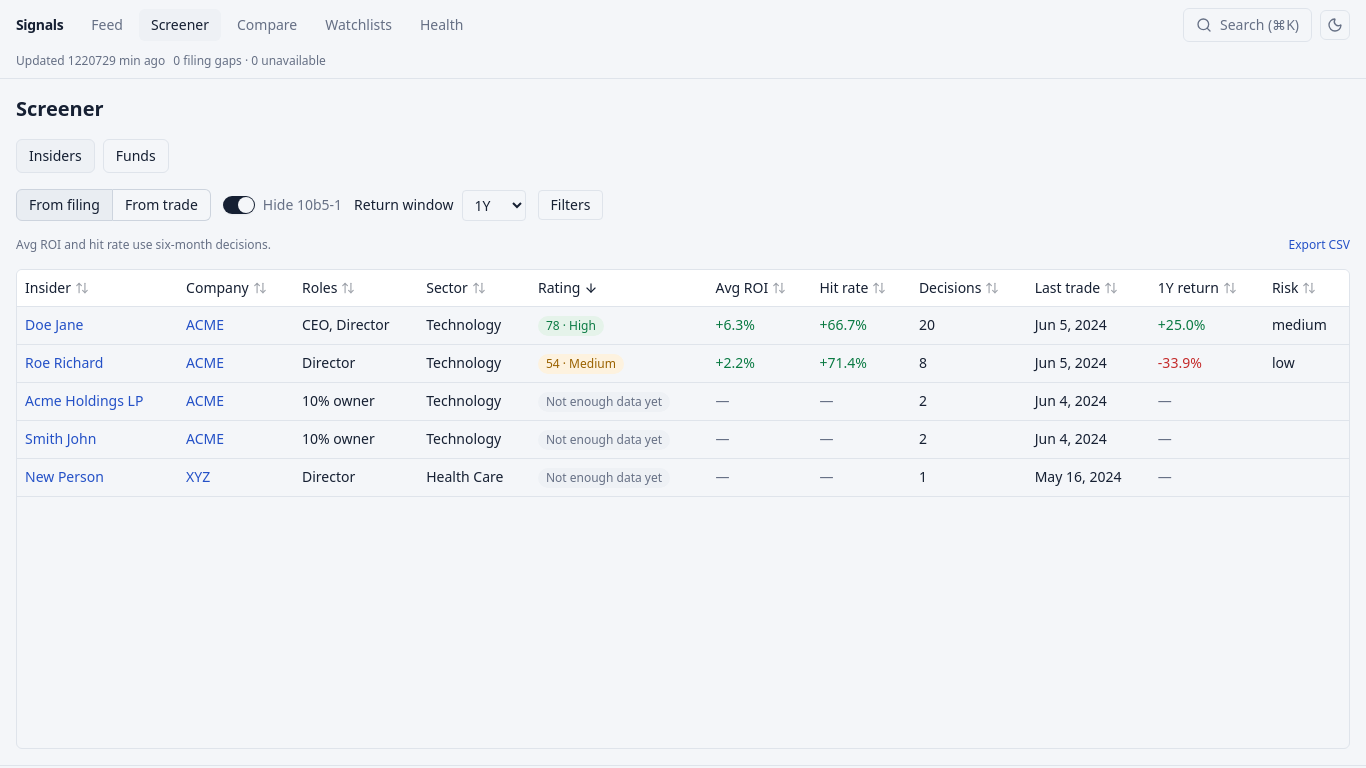
Test: debounced search shows groups and preserves server-ranked matches
The image size is (1366, 768).
Click the button "Search (⌘K)". click: (1248, 25)
box: [1183,8,1312,42]
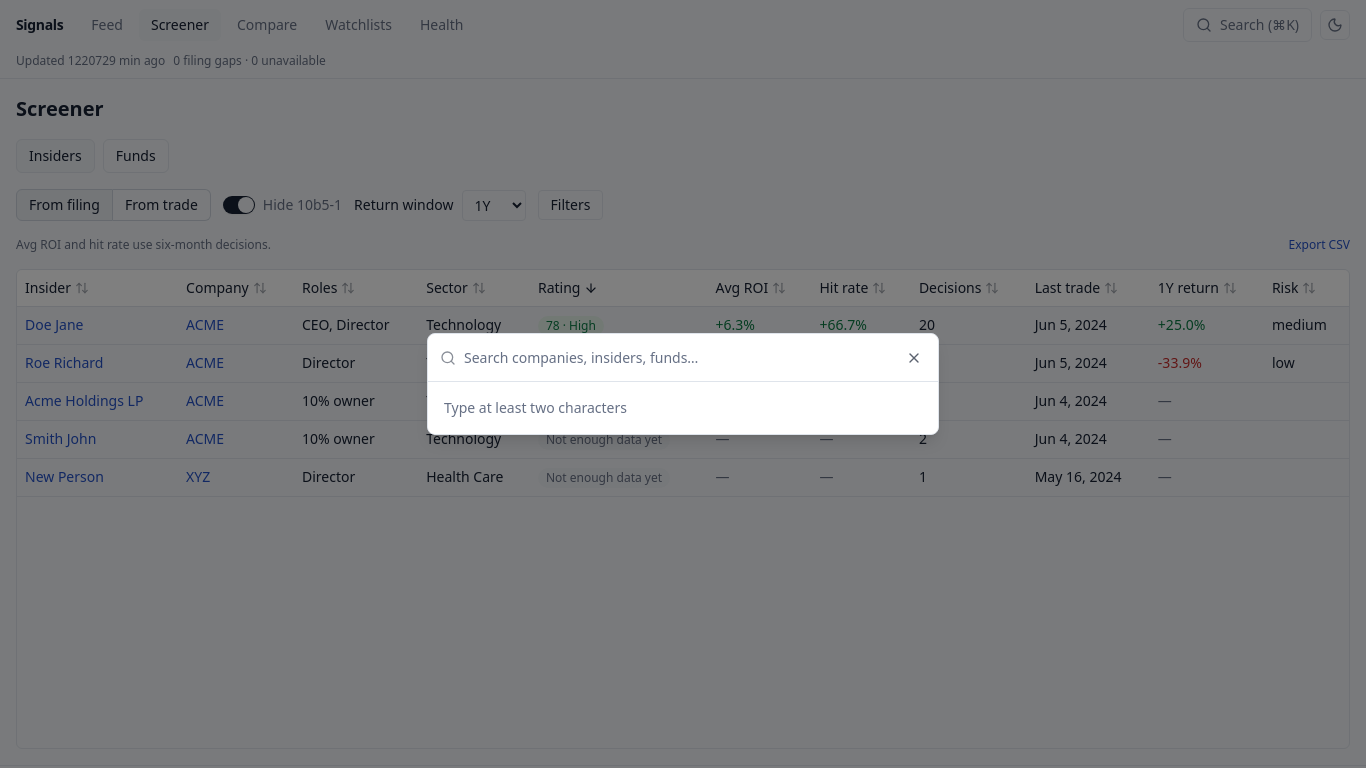
Type "a" into the dropdown named "Search profiles". click: (695, 358)
box: [464,334,926,382]
Wait 200 ms
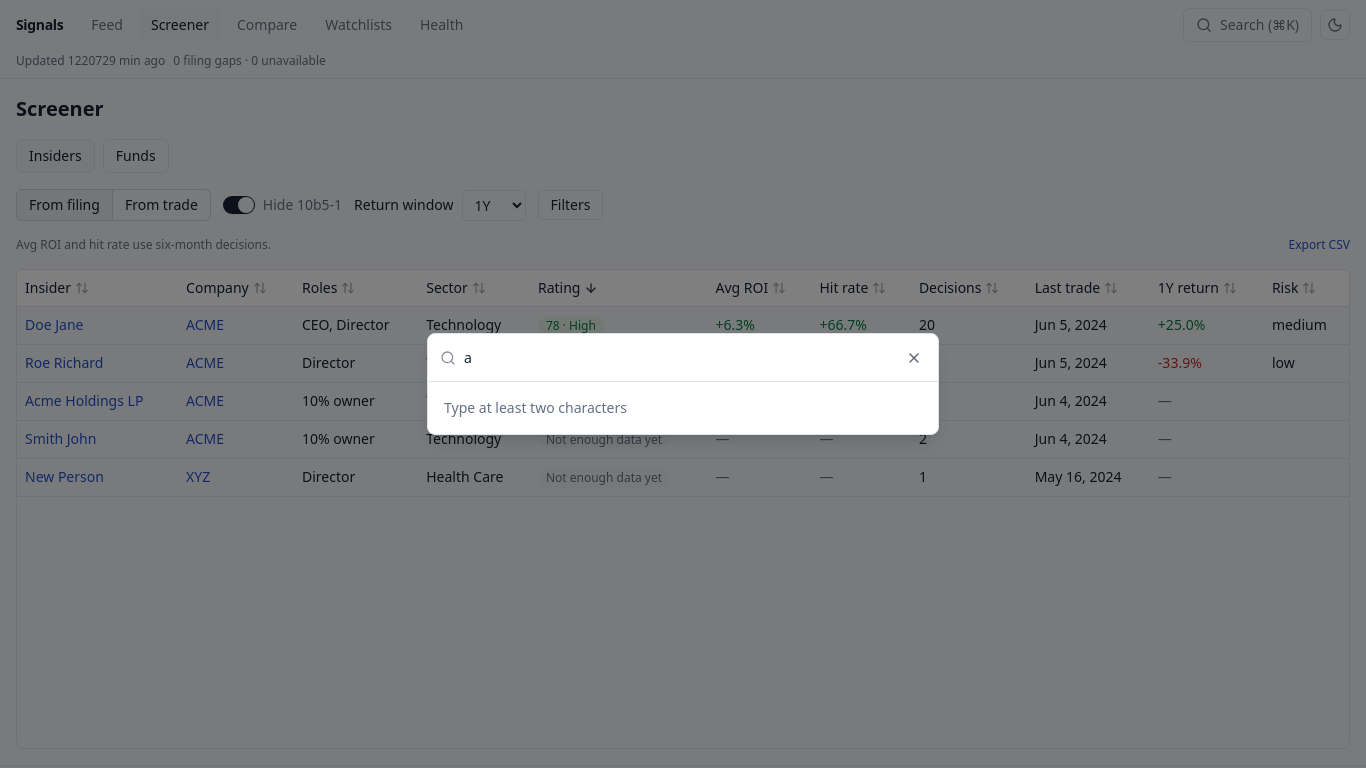
Replace the text in the dropdown named "Search profiles" with "ac". click: (695, 358)
box: [464,334,926,382]
Wait 200 ms
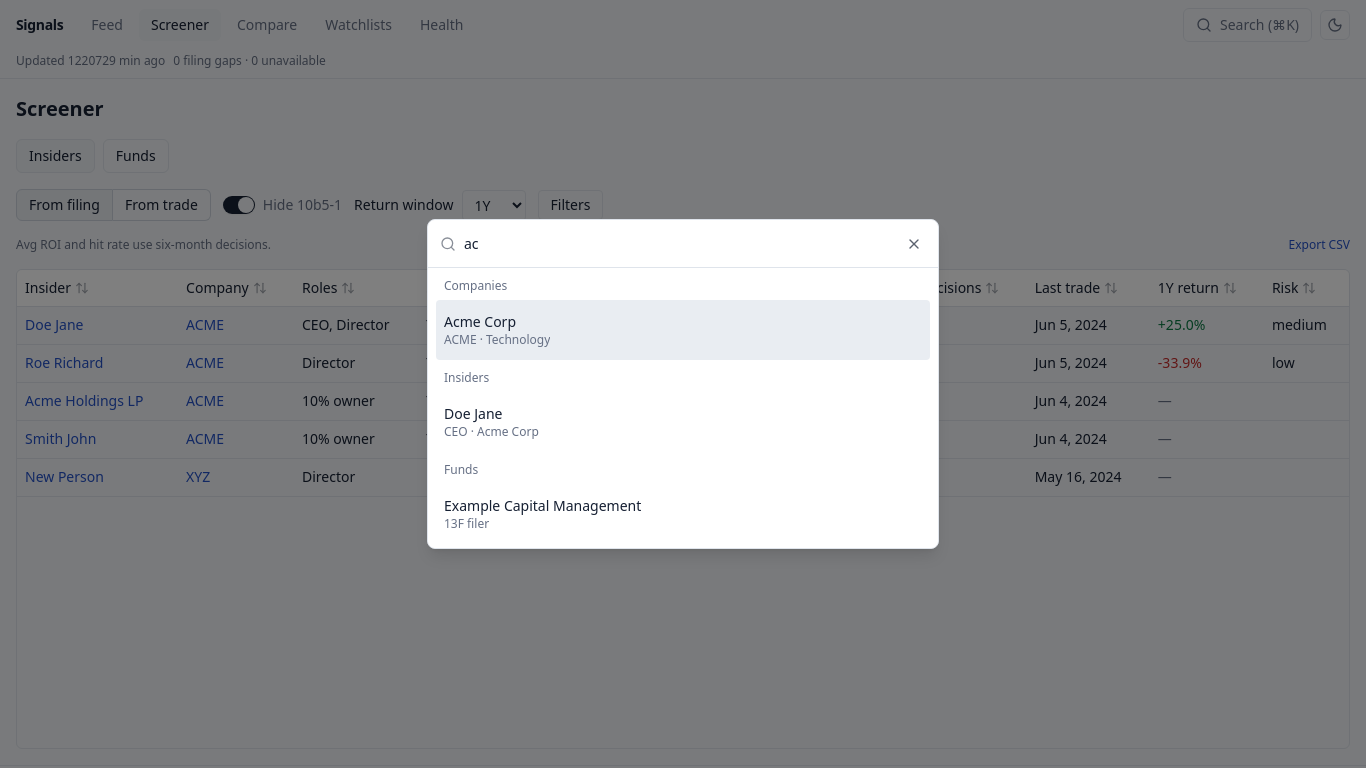
Expected: the text "Acme Corp" is shown, [444,312,516,331]
Expected: the text "Companies" is shown, [444,277,507,294]
Expected: the text "Insiders" is shown, [444,369,489,386]
